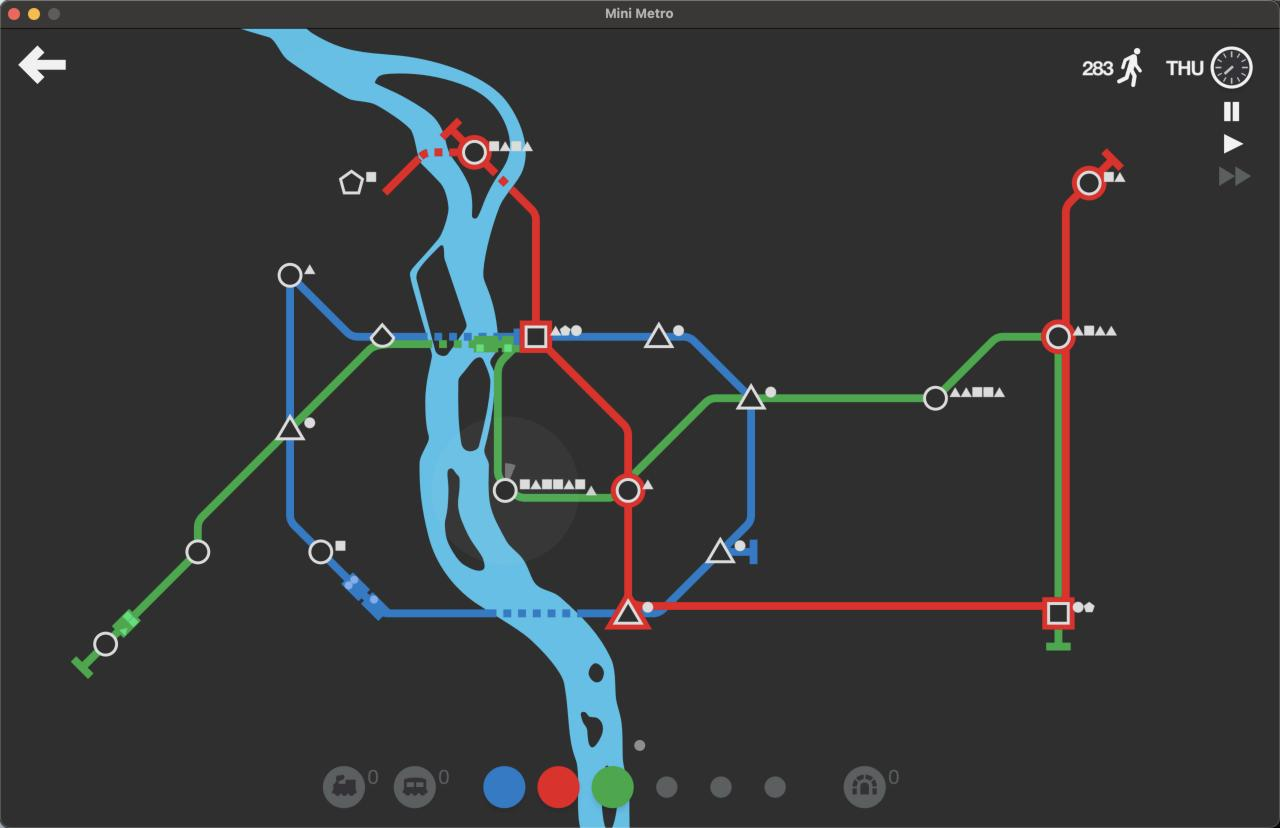CIRCLE: (1042, 319, 1076, 353), (612, 473, 646, 506), (491, 477, 519, 504), (461, 138, 488, 166), (184, 539, 211, 566), (277, 262, 303, 289), (93, 630, 119, 657), (308, 538, 334, 565), (1076, 170, 1102, 196), (923, 385, 948, 412)
PENTAGON: (339, 169, 365, 196)
SQUARE: (519, 321, 552, 352), (1046, 601, 1070, 625), (334, 540, 346, 551)
TRIANGLE: (606, 595, 652, 631), (706, 536, 738, 565), (735, 383, 766, 411), (643, 321, 674, 349), (275, 414, 305, 442)
WEDGE: (369, 322, 396, 349)
